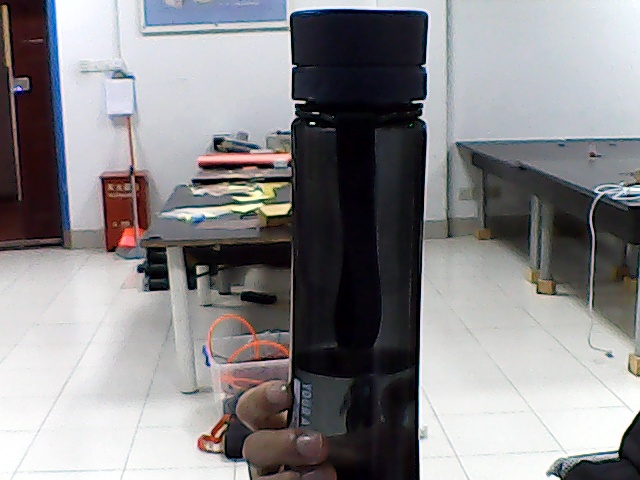cup: (301, 15, 418, 434)
